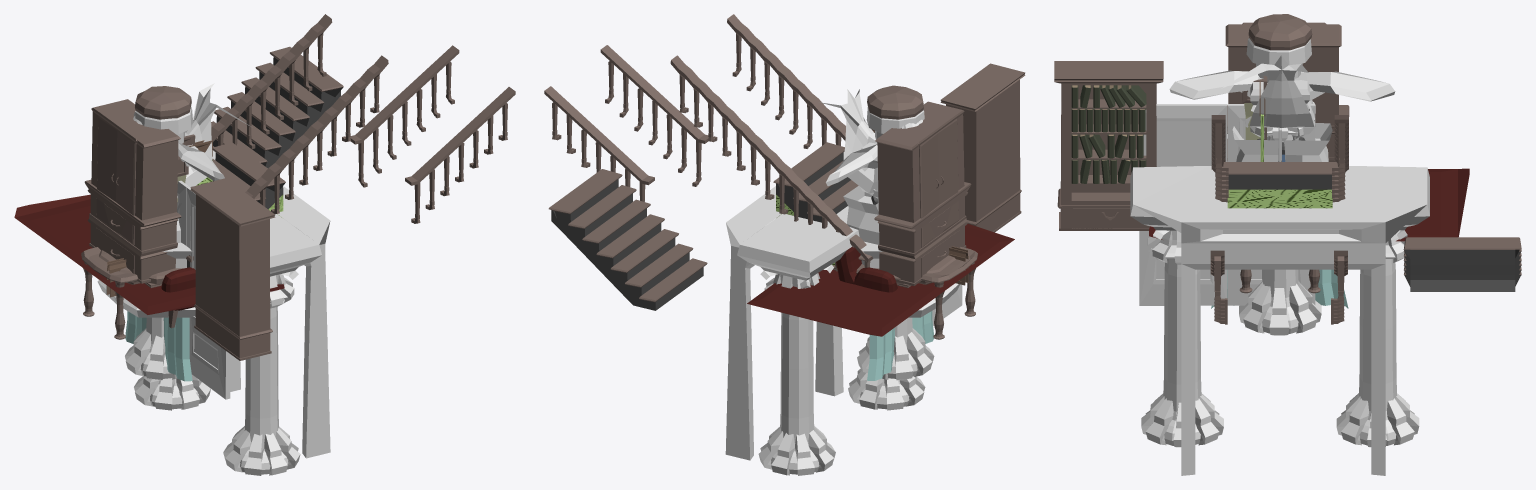
Rendered from StairHand_Long.fbx.
3 renders of one model, left to right at view 1: azimuth 30°, elevation 25°; view 2: azimuth 150°, elevation 25°; view 3: azimuth 270°, elevation 25°, orthographic. The views are drawn at different scales.
Visible parts, largest first — view 1: Gate, Cube, Big_Cabinet, HAND_R.004, STAIR.002, Rug, Cabinet, Statue, BigDoor, HAND_L.001, HAND_R.001, Lamp (+5 smaller); view 2: Gate, STAIR.002, Cube, HAND_R.004, Big_Cabinet, Rug, Statue, Cabinet, HAND_R.001, STAIR, HAND_L.001, Round Pillar (+4 smaller); view 3: Gate, Cube, Statue, BigDoor, STAIR.002, Book.001, Round Pillar, Big_Cabinet, Lamp, STAIR, Rug, HAND_R.004 (+5 smaller).
Part boxes in pixels (box(x1,y1,x2,y2)): Gate: box(134, 150, 330, 475); Cube: box(190, 178, 275, 360); Big_Cabinet: box(91, 99, 180, 249); HAND_R.004: box(186, 14, 388, 262); STAIR.002: box(211, 46, 343, 168); Rug: box(14, 194, 284, 314); Cabinet: box(84, 179, 181, 283); Statue: box(97, 83, 250, 317); BigDoor: box(177, 180, 230, 399); HAND_L.001: box(350, 45, 459, 187); HAND_R.001: box(405, 87, 515, 223); Lamp: box(135, 86, 192, 143); Gate: box(725, 151, 925, 475); STAIR.002: box(548, 169, 707, 310); Cube: box(940, 63, 1025, 232); HAND_R.004: box(670, 14, 873, 271); Big_Cabinet: box(875, 101, 964, 252); Rug: box(747, 224, 1014, 336); Statue: box(819, 89, 959, 317); Cabinet: box(874, 182, 971, 285); HAND_R.001: box(600, 45, 708, 186); STAIR: box(773, 142, 864, 260); HAND_L.001: box(544, 86, 654, 201); Round Pillar: box(857, 142, 934, 380); Gate: box(1130, 166, 1429, 475); Cube: box(1054, 61, 1163, 230); Statue: box(1169, 55, 1395, 161); BigDoor: box(1139, 104, 1315, 305); STAIR.002: box(1403, 237, 1521, 291); Book.001: box(1071, 85, 1146, 183); Round Pillar: box(1239, 80, 1321, 335); Big_Cabinet: box(1225, 22, 1341, 157); Lamp: box(1246, 14, 1312, 82); STAIR: box(1222, 162, 1337, 189); Rug: box(1149, 168, 1469, 241); HAND_R.004: box(1211, 115, 1348, 202).
Size of the model in its own units: 2096 by 1876 by 1993.
Materials: 21 (1 with a texture image).
